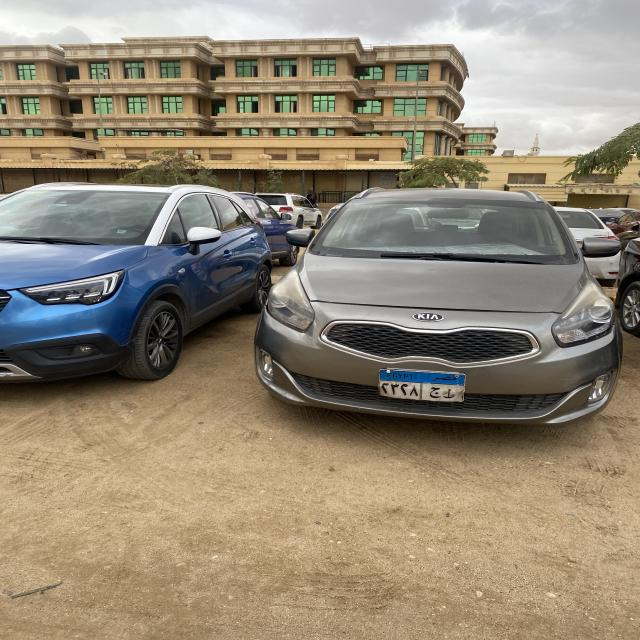License Plate: (379, 369, 466, 402)
